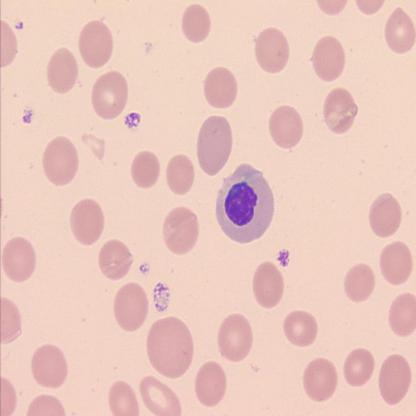NRC: (214, 162, 276, 244)
